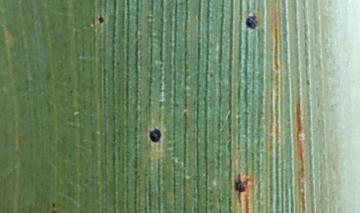tarspot: (233, 173, 247, 194), (148, 128, 161, 143), (246, 14, 259, 29), (98, 16, 105, 24), (305, 79, 312, 87), (52, 202, 57, 207), (52, 209, 58, 213)
